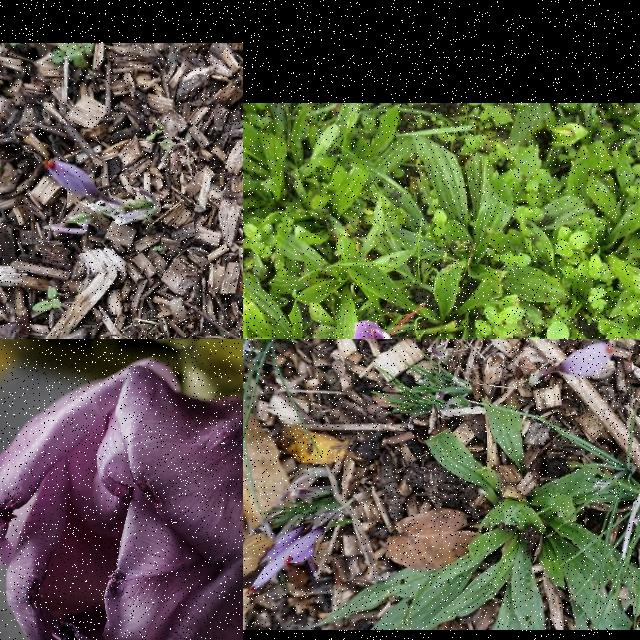flower: (248, 538, 302, 594), (353, 302, 425, 339), (43, 156, 99, 200), (557, 342, 615, 376), (284, 532, 322, 566)
